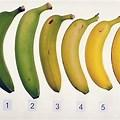banana: (61, 11, 90, 98), (14, 1, 40, 96), (87, 7, 114, 93), (38, 11, 63, 93)
